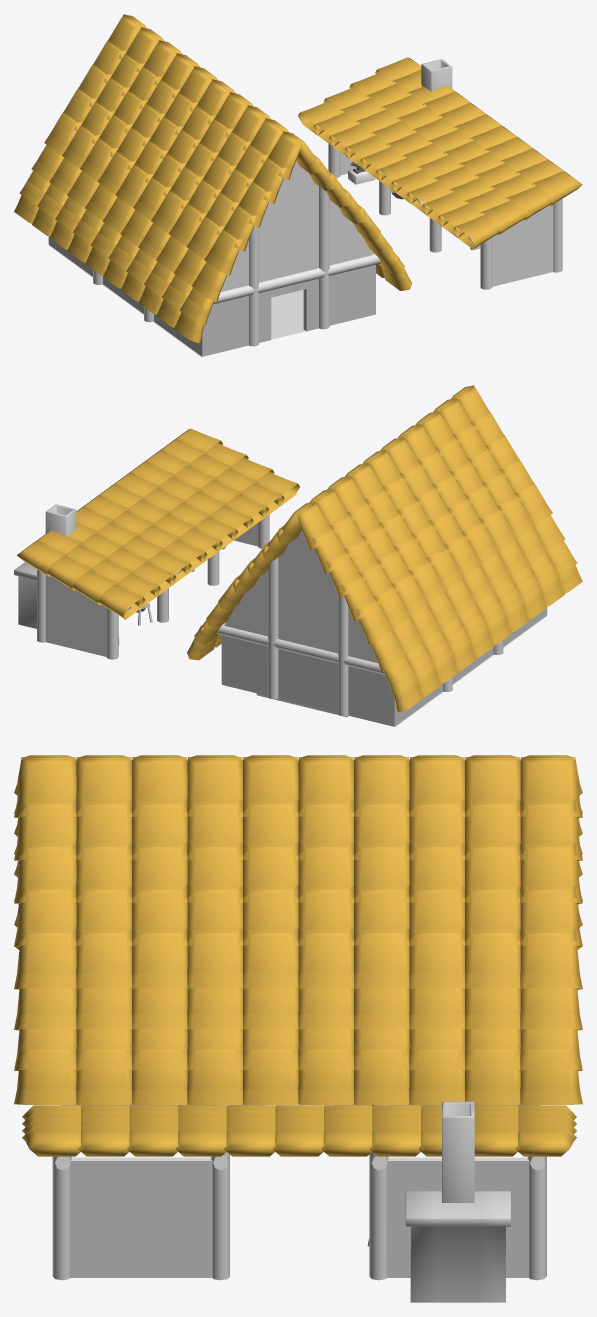
File: House.fbx
3 renders of one model, top to bottom at view 1: azimuth 30°, elevation 25°; view 2: azimuth 150°, elevation 25°; view 3: azimuth 270°, elevation 25°, orthographic. The views are drawn at different scales.
Parts seen in each view (by area): view 1: Casa new; view 2: Casa new; view 3: Casa new.
Part boxes in pixels (x1,y1,x2,y2): Casa new: (14,14,582,356); Casa new: (14,385,582,726); Casa new: (14,755,582,1302).
Bounding box in the file's own units: 17.97 × 11.64 × 23.75.
